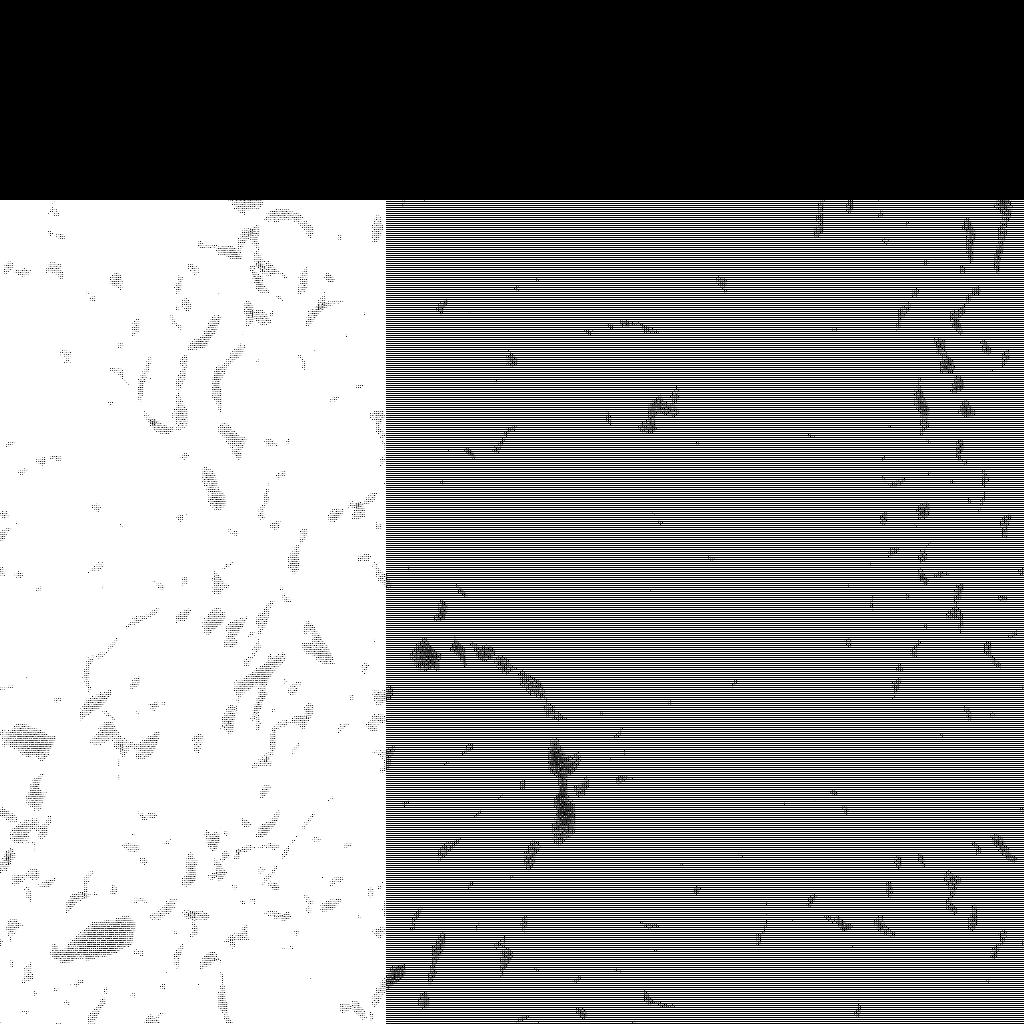axone: (44, 912, 141, 967), (1, 711, 63, 765)
